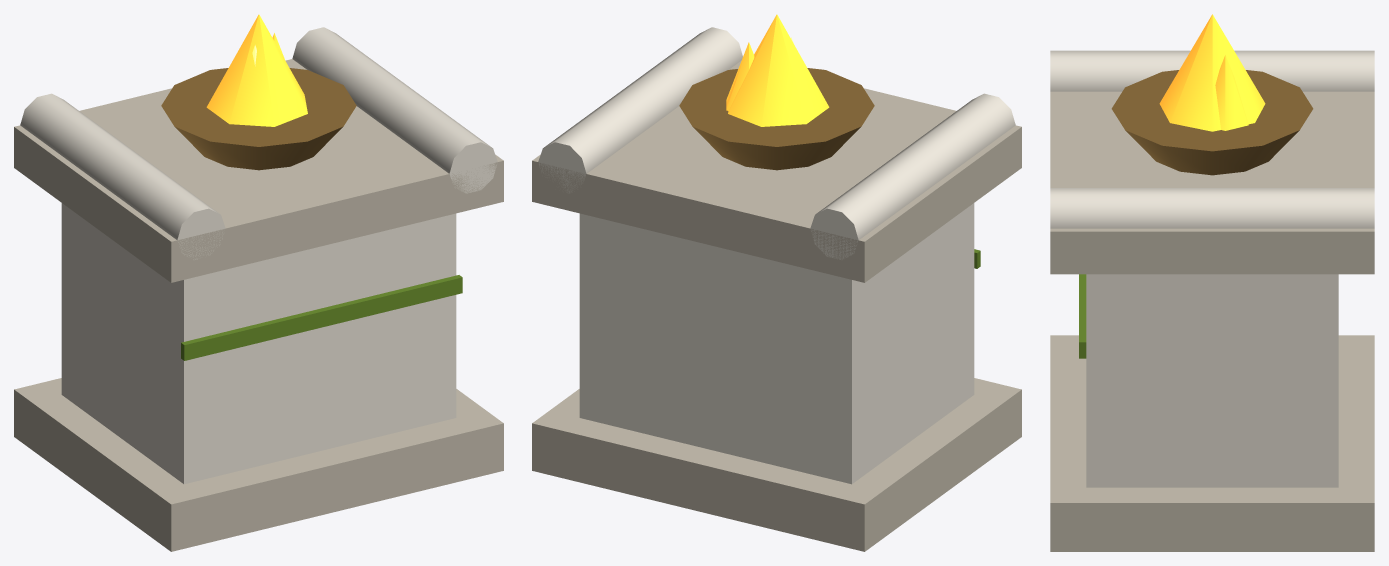
File: im_altar.glb
3 renders of one model, left to right at view 1: azimuth 30°, elevation 25°; view 2: azimuth 150°, elevation 25°; view 3: azimuth 270°, elevation 25°, orthographic. The views are drawn at different scales.
Visible parts, largest first — view 1: im_altar; view 2: im_altar; view 3: im_altar.
Boxes of the visible parts, x1,y1,x2,y2 form: im_altar: (14,14,503,551); im_altar: (532,14,1021,551); im_altar: (1050,14,1374,551).
Bounding box in the file's own units: 1.1 × 1.39 × 0.9.
